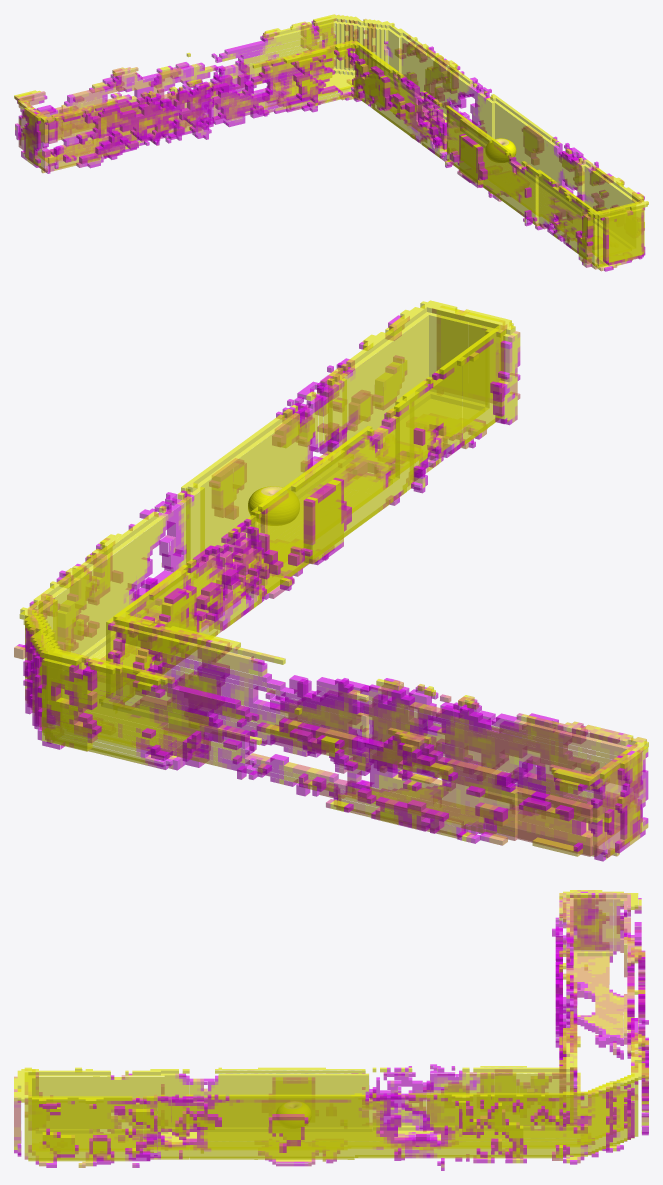
Rendered from test_chamber_spec_med_refl.glb.
3 views of the same model, one above another, from view 1: azimuth 30°, elevation 25°; view 2: azimuth 150°, elevation 25°; view 3: azimuth 270°, elevation 25° (orthographic). The views are drawn at different scales.
Parts seen in each view (by area): view 1: chunk:0.024, chunk:2.019, chunk:1.020, chunk:3.019, Emitter-0 2232.000000MHz 2.000000w.024; view 2: chunk:0.024, chunk:2.019, chunk:3.019, chunk:1.020, Emitter-0 2232.000000MHz 2.000000w.024; view 3: chunk:0.024, chunk:2.019, chunk:3.019, chunk:1.020, Emitter-0 2232.000000MHz 2.000000w.024.
Part boxes in pixels (bbox=[...]): chunk:0.024: bbox=[14, 14, 547, 216]; chunk:2.019: bbox=[363, 19, 575, 204]; chunk:1.020: bbox=[521, 161, 624, 271]; chunk:3.019: bbox=[550, 148, 648, 265]; Emitter-0 2232.000000MHz 2.000000w.024: bbox=[485, 138, 516, 162]; chunk:0.024: bbox=[23, 425, 648, 861]; chunk:2.019: bbox=[14, 391, 326, 714]; chunk:3.019: bbox=[296, 300, 472, 486]; chunk:1.020: bbox=[346, 310, 520, 506]; Emitter-0 2232.000000MHz 2.000000w.024: bbox=[248, 486, 299, 525]; chunk:0.024: bbox=[189, 890, 648, 1154]; chunk:2.019: bbox=[189, 1084, 616, 1170]; chunk:3.019: bbox=[14, 1084, 189, 1167]; chunk:1.020: bbox=[14, 1067, 189, 1154]; Emitter-0 2232.000000MHz 2.000000w.024: bbox=[276, 1101, 311, 1125].
Bounding box in the file's own units: 14 × 2.2 × 17.7.
Materials: 5 (4 with a texture image).
